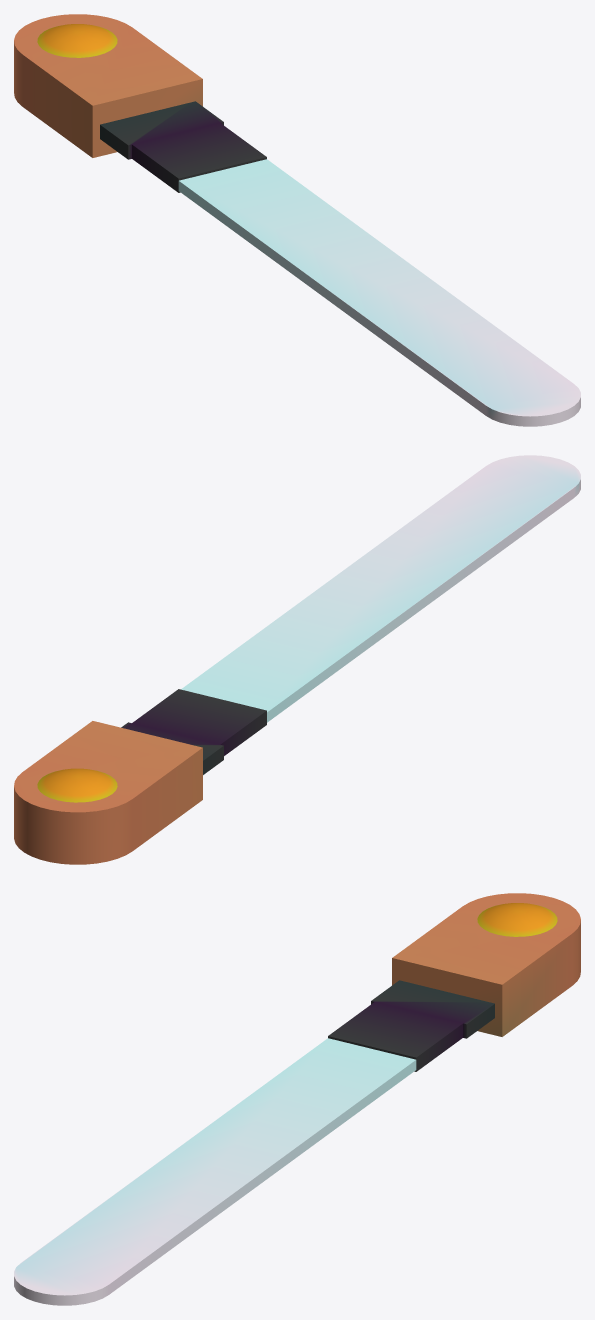
The picture shows the model from 3 angles, top to bottom: view 1: azimuth 30°, elevation 25°; view 2: azimuth 150°, elevation 25°; view 3: azimuth 330°, elevation 25°; orthographic projection.
Visible parts, largest first — view 1: strip, grip, connector, yellow_inset; view 2: strip, grip, connector, yellow_inset; view 3: strip, grip, connector, yellow_inset.
Part boxes in pixels (bbox=[...]): strip: bbox=[178, 159, 580, 426]; grip: bbox=[14, 14, 202, 157]; connector: bbox=[100, 101, 266, 192]; yellow_inset: bbox=[37, 24, 117, 57]; strip: bbox=[181, 455, 580, 722]; grip: bbox=[14, 721, 202, 864]; connector: bbox=[121, 689, 266, 774]; yellow_inset: bbox=[37, 768, 117, 802]; strip: bbox=[14, 1038, 416, 1305]; grip: bbox=[392, 893, 580, 1036]; connector: bbox=[328, 980, 494, 1071]; yellow_inset: bbox=[477, 903, 557, 936].
Bounding box in the file's own units: 0.0224 × 0.012 × 0.1799.
